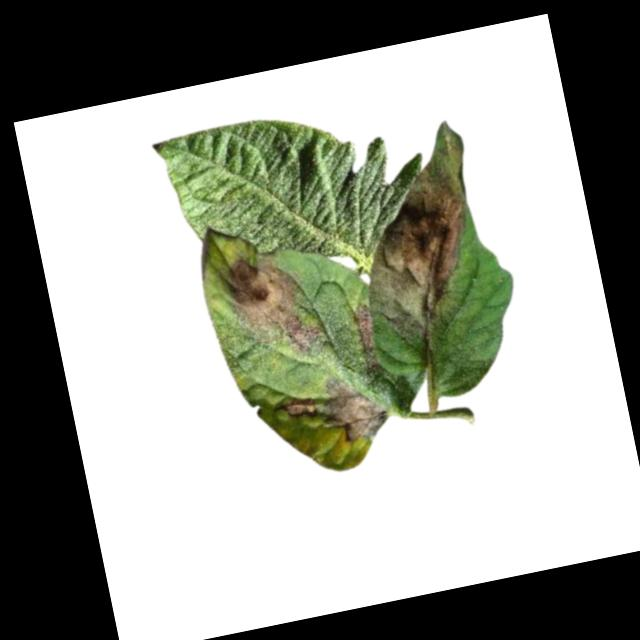Late_blight: (342, 126, 505, 359), (220, 241, 327, 372), (271, 365, 394, 461), (351, 297, 379, 355)
healthy: (151, 86, 441, 291)
